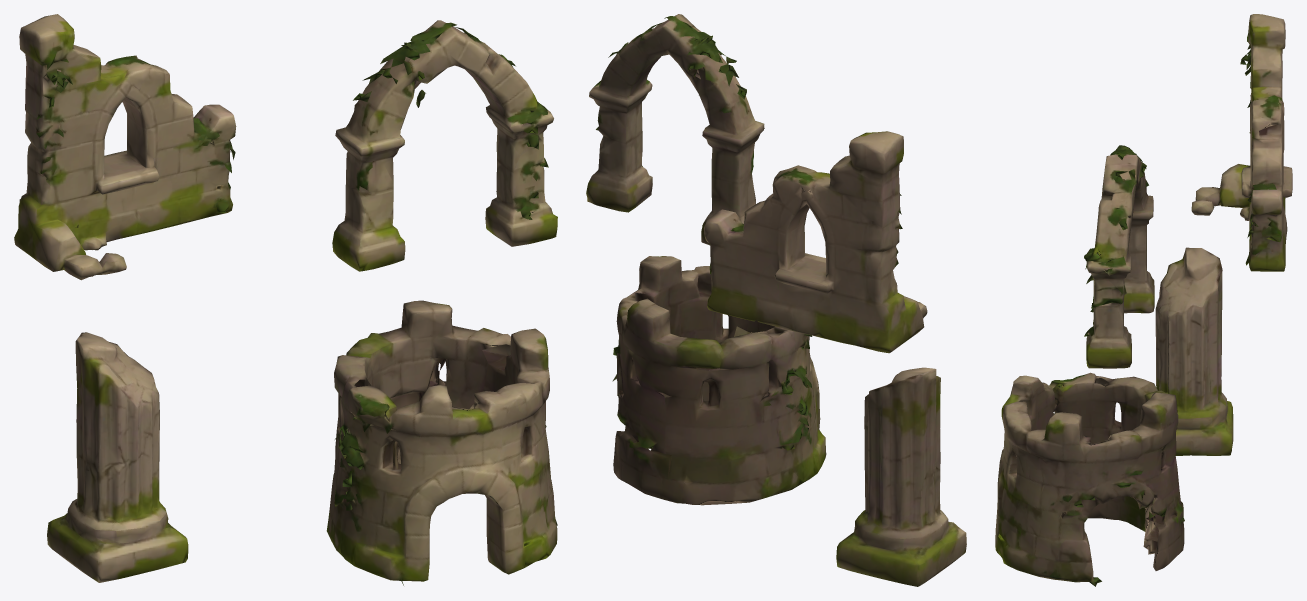
The picture shows the model from 3 angles, left to right: view 1: azimuth 30°, elevation 25°; view 2: azimuth 150°, elevation 25°; view 3: azimuth 270°, elevation 25°; orthographic projection. The views are drawn at different scales.
Parts seen in each view (by area): view 1: world; view 2: world; view 3: world.
Boxes of the visible parts, bbox=[...] form: world: bbox=[14, 14, 557, 585]; world: bbox=[586, 14, 966, 586]; world: bbox=[995, 14, 1292, 586].
Size of the model in its own units: 0.8592 by 0.9752 by 0.6349.
1 material, 1 textured.
